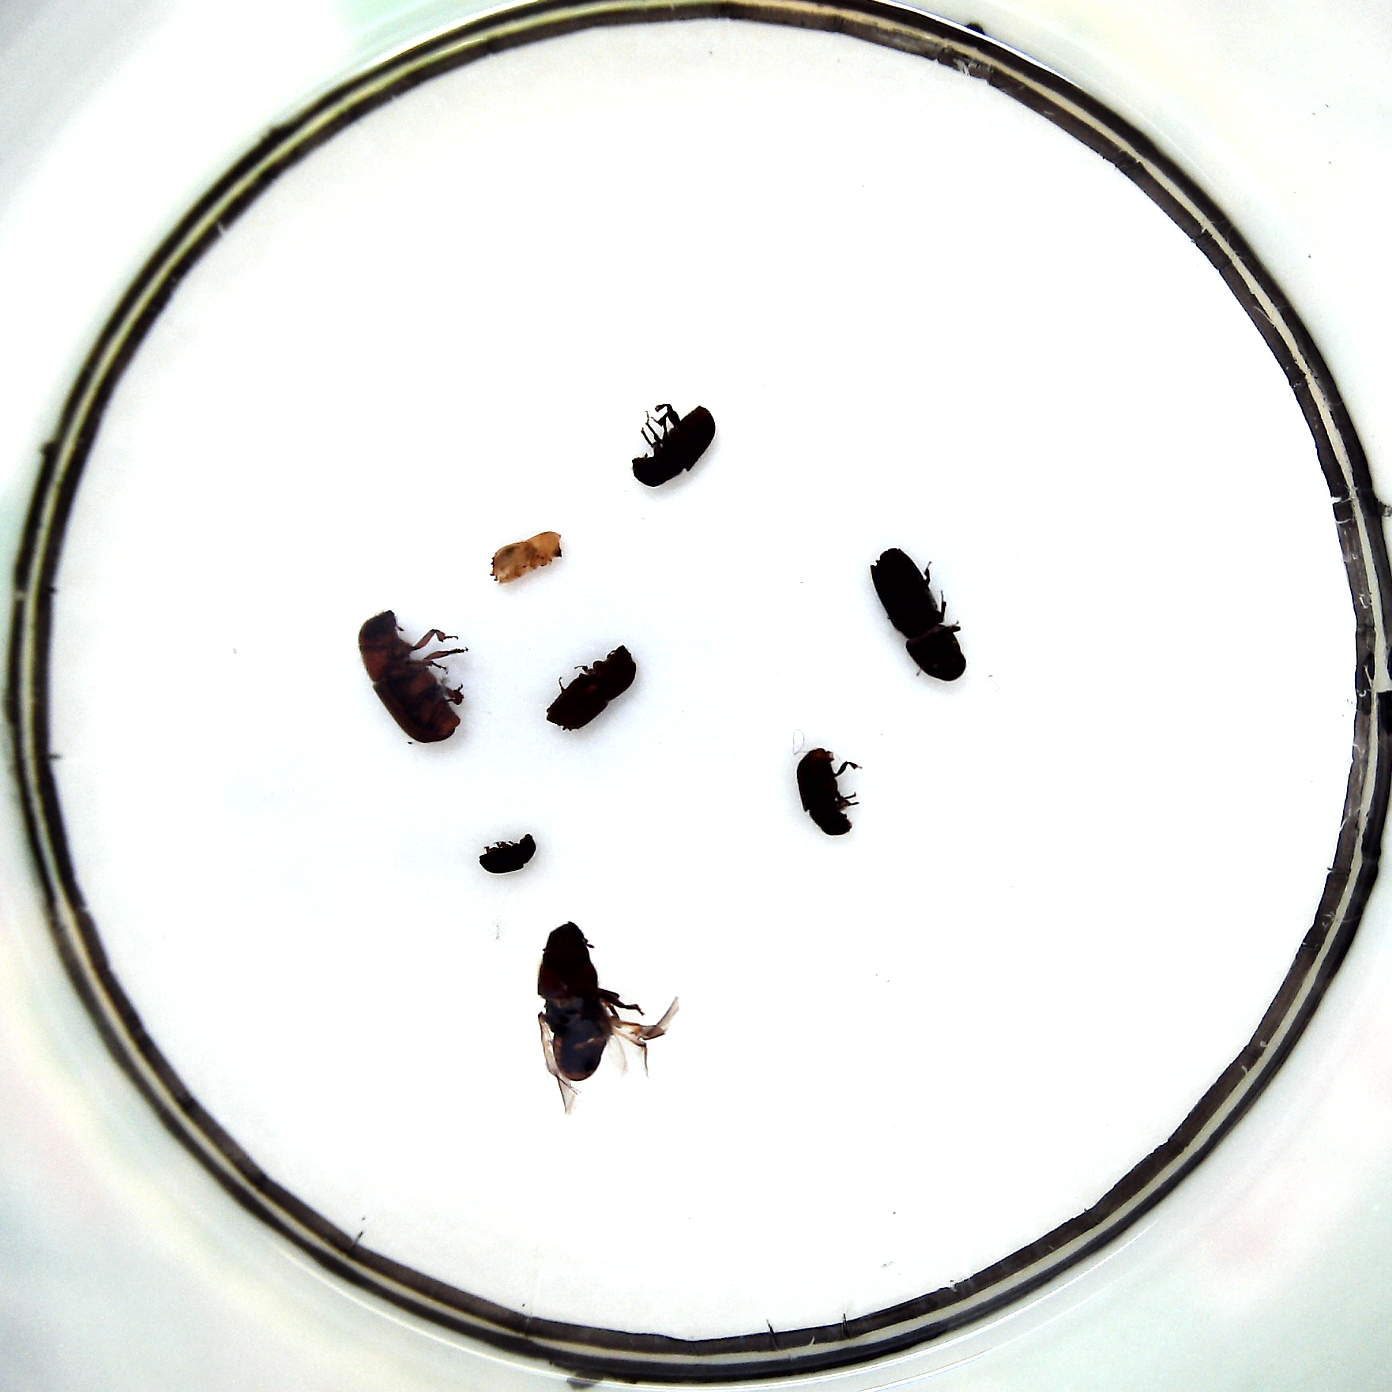Boerner: (871, 547, 968, 679)
Leconte: (534, 920, 637, 1084), (356, 611, 465, 743)
acuminatus: (489, 528, 561, 588)
armandi: (627, 402, 715, 487), (792, 746, 857, 835)
coleoptera: (479, 831, 537, 874)
linnaeus: (544, 642, 637, 732)
